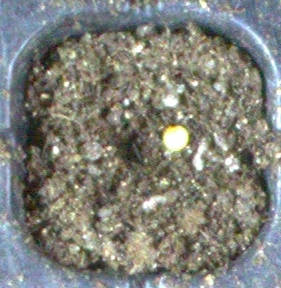pepper seed: (65, 48, 256, 200)
